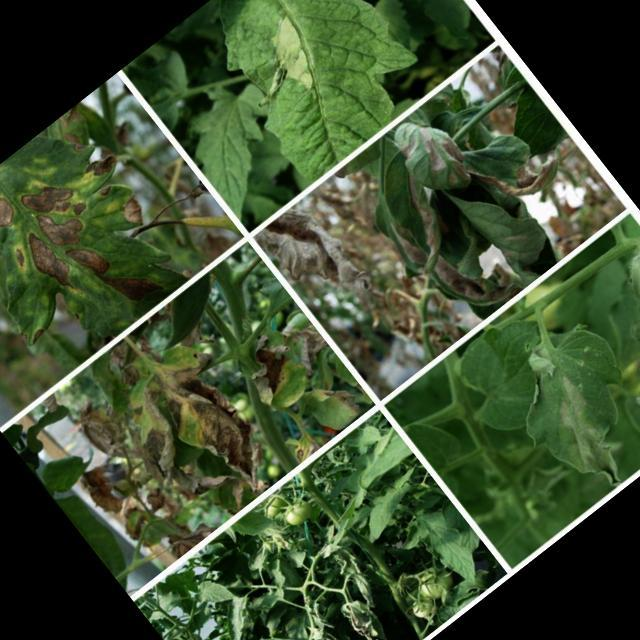Tomato bacterial spot leaf: (176, 0, 489, 186), (0, 110, 195, 384), (474, 302, 640, 516)
